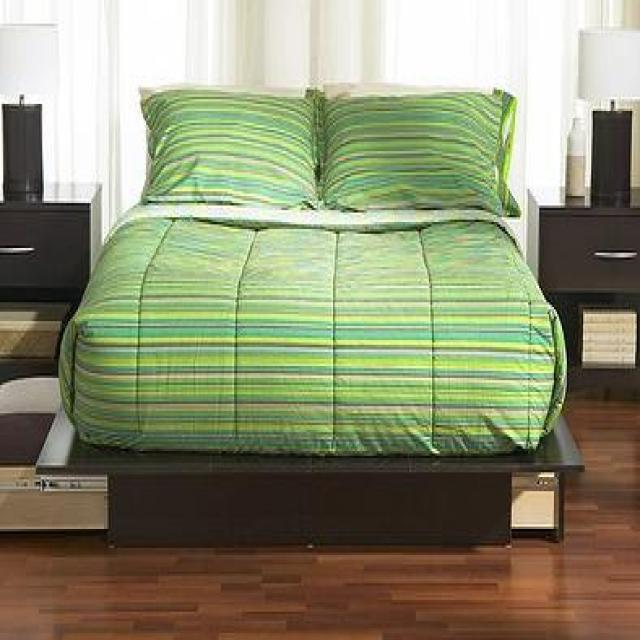bed: (42, 80, 582, 548)
